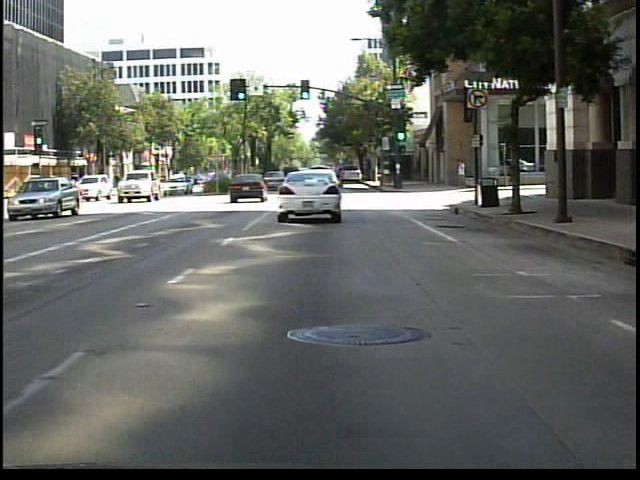person: (453, 155, 469, 194)
